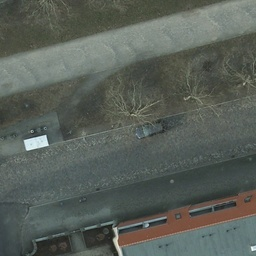car: (135, 121, 167, 140)
